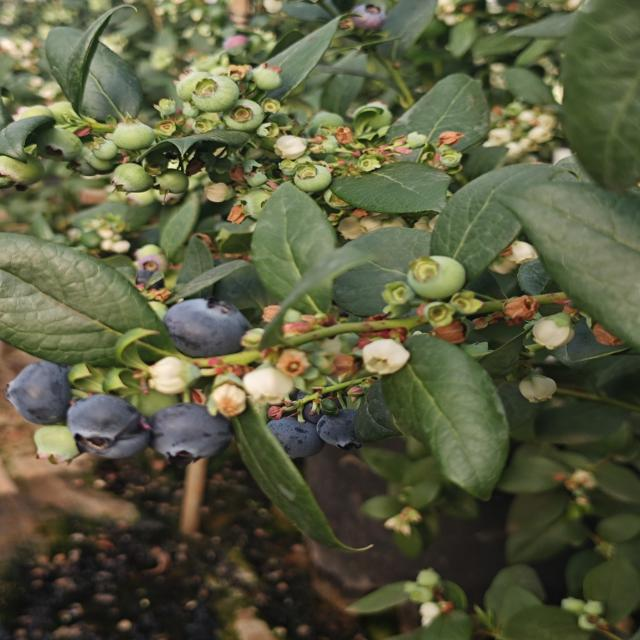ripe: (154, 292, 250, 349), (0, 360, 76, 424), (72, 392, 143, 458), (147, 397, 212, 464), (314, 407, 377, 456), (265, 414, 330, 459)
